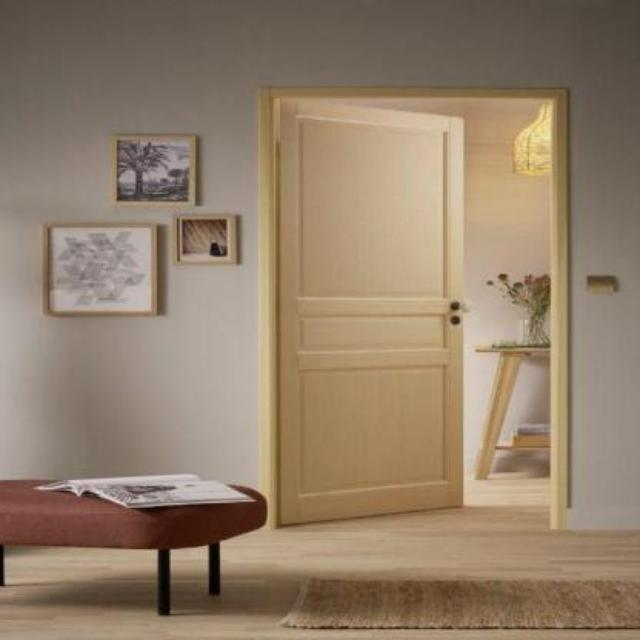door: (276, 99, 465, 525)
